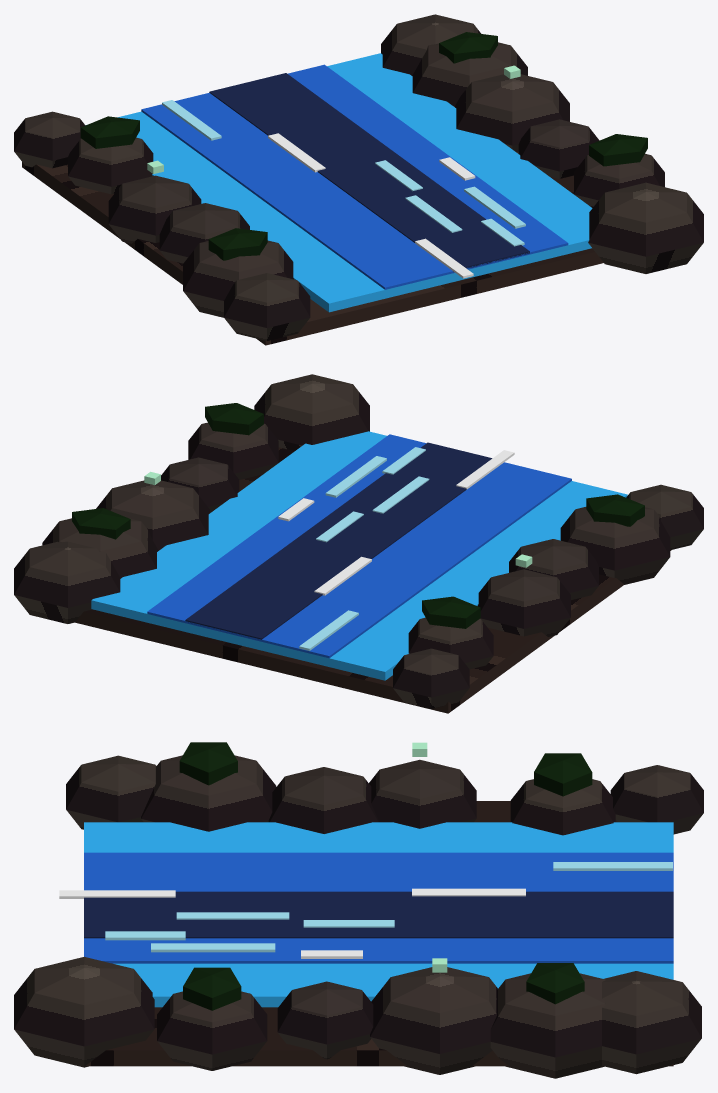
The model's file is stream_straight.glb.
The picture shows the model from 3 angles, top to bottom: view 1: azimuth 30°, elevation 25°; view 2: azimuth 150°, elevation 25°; view 3: azimuth 270°, elevation 25°; orthographic projection. The views are drawn at different scales.
Visible parts, largest first — view 1: stream_straight; view 2: stream_straight; view 3: stream_straight.
Part boxes in pixels (bbox=[...]): stream_straight: bbox=[14, 14, 703, 345]; stream_straight: bbox=[14, 374, 703, 713]; stream_straight: bbox=[14, 742, 703, 1078].
Bounding box in the file's own units: 2.31 × 0.386 × 2.34.
3 materials, 2 textured.
